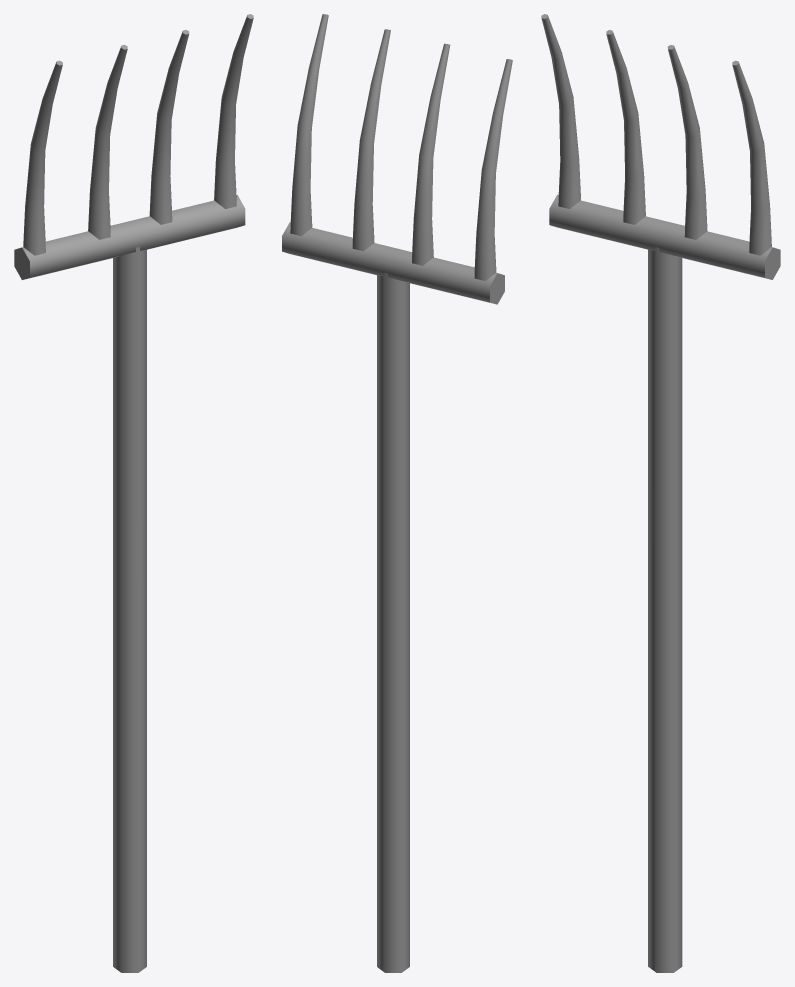
File: Pitchfork.FBX
3 views of the same model, side by side, from view 1: azimuth 30°, elevation 25°; view 2: azimuth 150°, elevation 25°; view 3: azimuth 330°, elevation 25° (orthographic). The views are drawn at different scales.
Parts seen in each view (by area): view 1: Pitchfork; view 2: Pitchfork; view 3: Pitchfork.
Boxes of the visible parts, x1,y1,x2,y2 form: Pitchfork: (14,14,253,972); Pitchfork: (282,14,512,972); Pitchfork: (541,14,780,972).
Size of the model in its own units: 0.364 by 1.53 by 0.103.
Materials: 1 (1 with a texture image).
